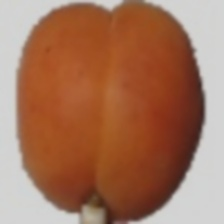apricot: (24, 53, 169, 195)
